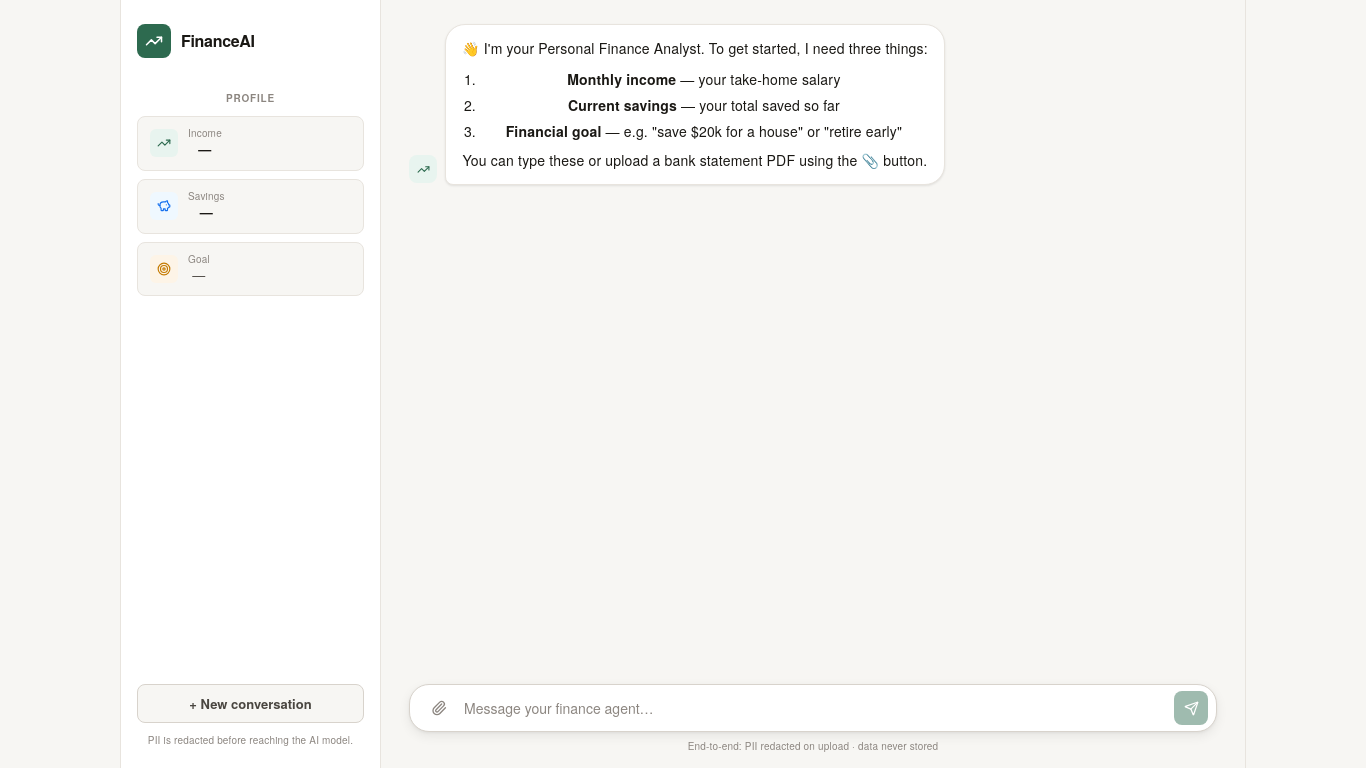
Test: App — sending a message › displays the user message in the chat after sending
In the field with placeholder "Message your finance agent…": x=815, y=708 [464,692,1166,724], type "My salary is $5000"
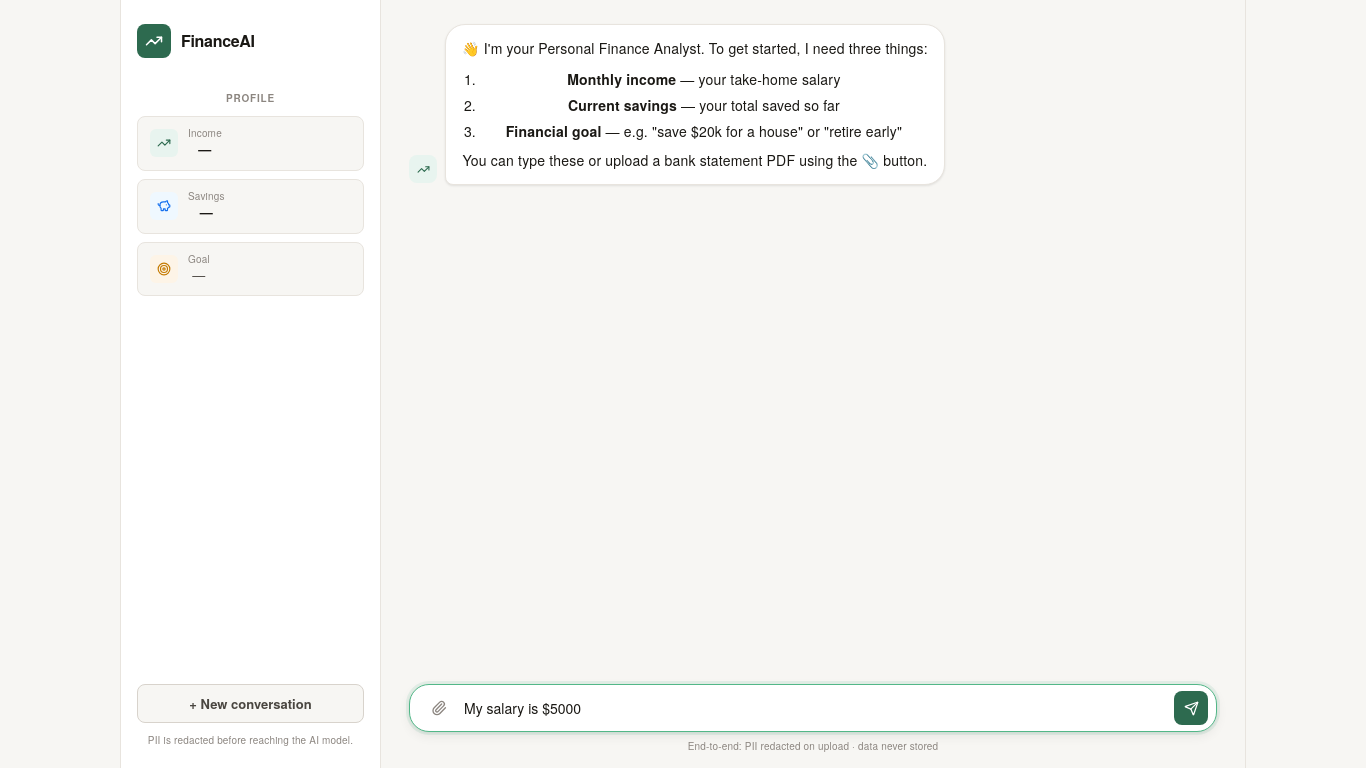
Press Enter in the field with placeholder "Message your finance agent…", box [464,692,1166,724]
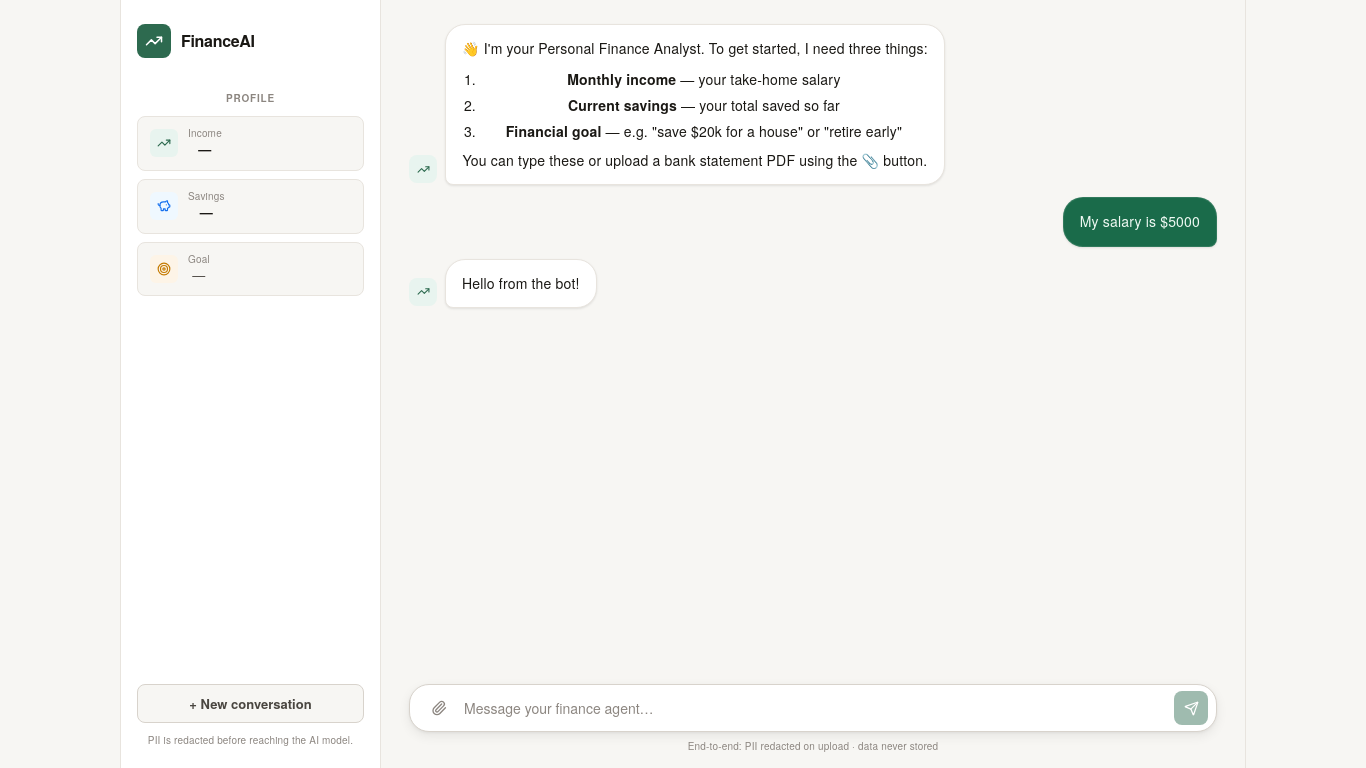
Now the text "My salary is $5000" is shown, box [1080,210,1200,234]
